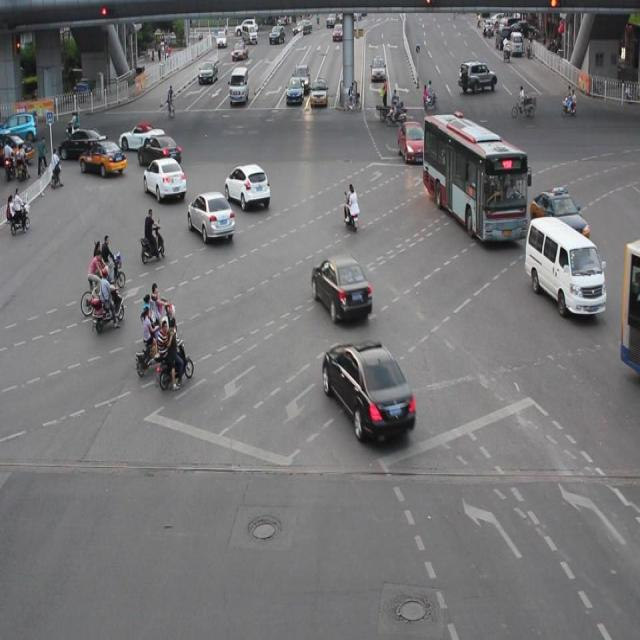car: (323, 338, 415, 440), (312, 254, 373, 321), (528, 185, 588, 243), (188, 190, 235, 241), (224, 161, 270, 209), (143, 154, 186, 200), (79, 138, 126, 176), (137, 132, 182, 168), (59, 127, 108, 160), (120, 121, 164, 152), (397, 120, 428, 163)
truck: (524, 214, 606, 313)
van: (423, 114, 526, 242)
